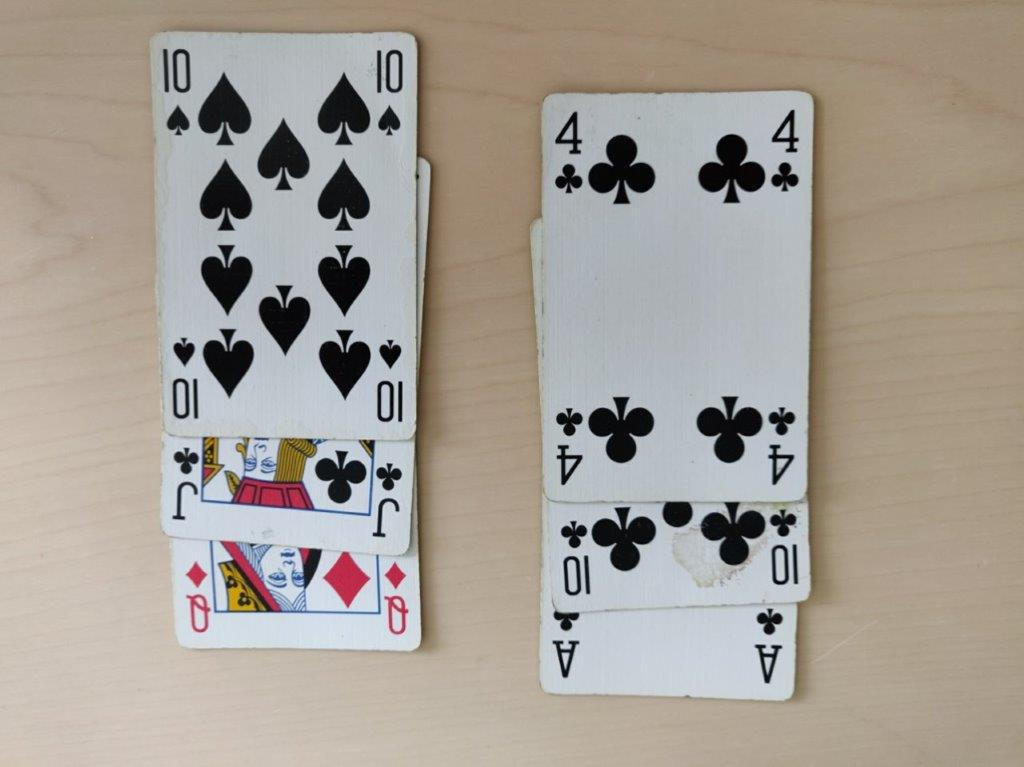10C: (547, 498, 812, 606)
10S: (152, 33, 415, 436)
4C: (547, 97, 808, 494)
AC: (547, 604, 800, 701)
JC: (166, 436, 408, 548)
QD: (171, 551, 418, 647)
